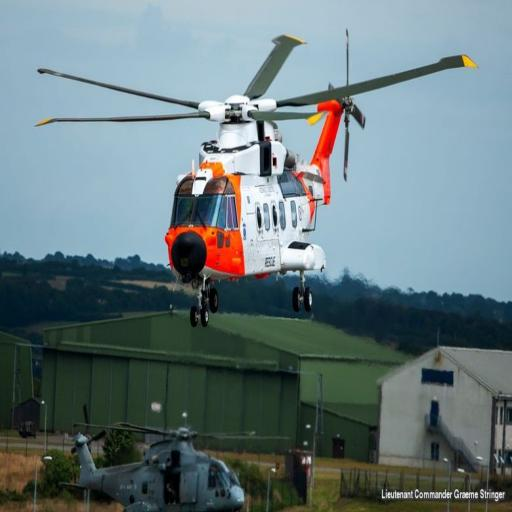helicopter: (37, 35, 480, 326)
